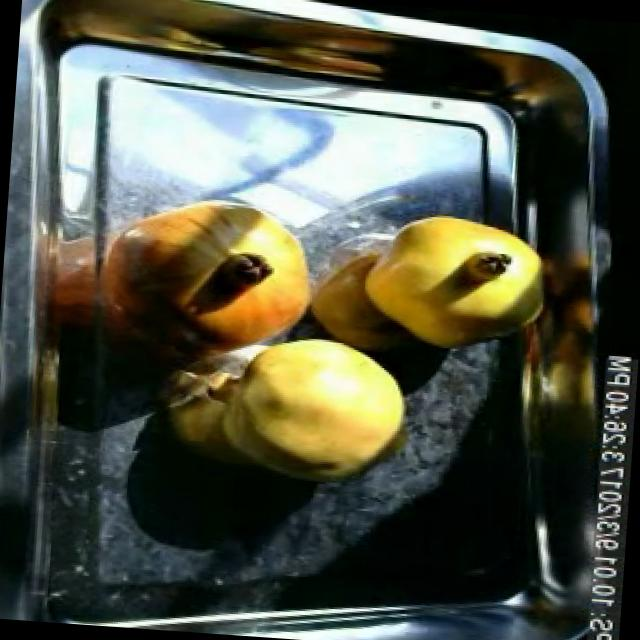fruit: (74, 180, 334, 376), (189, 312, 439, 506), (348, 204, 562, 364)
